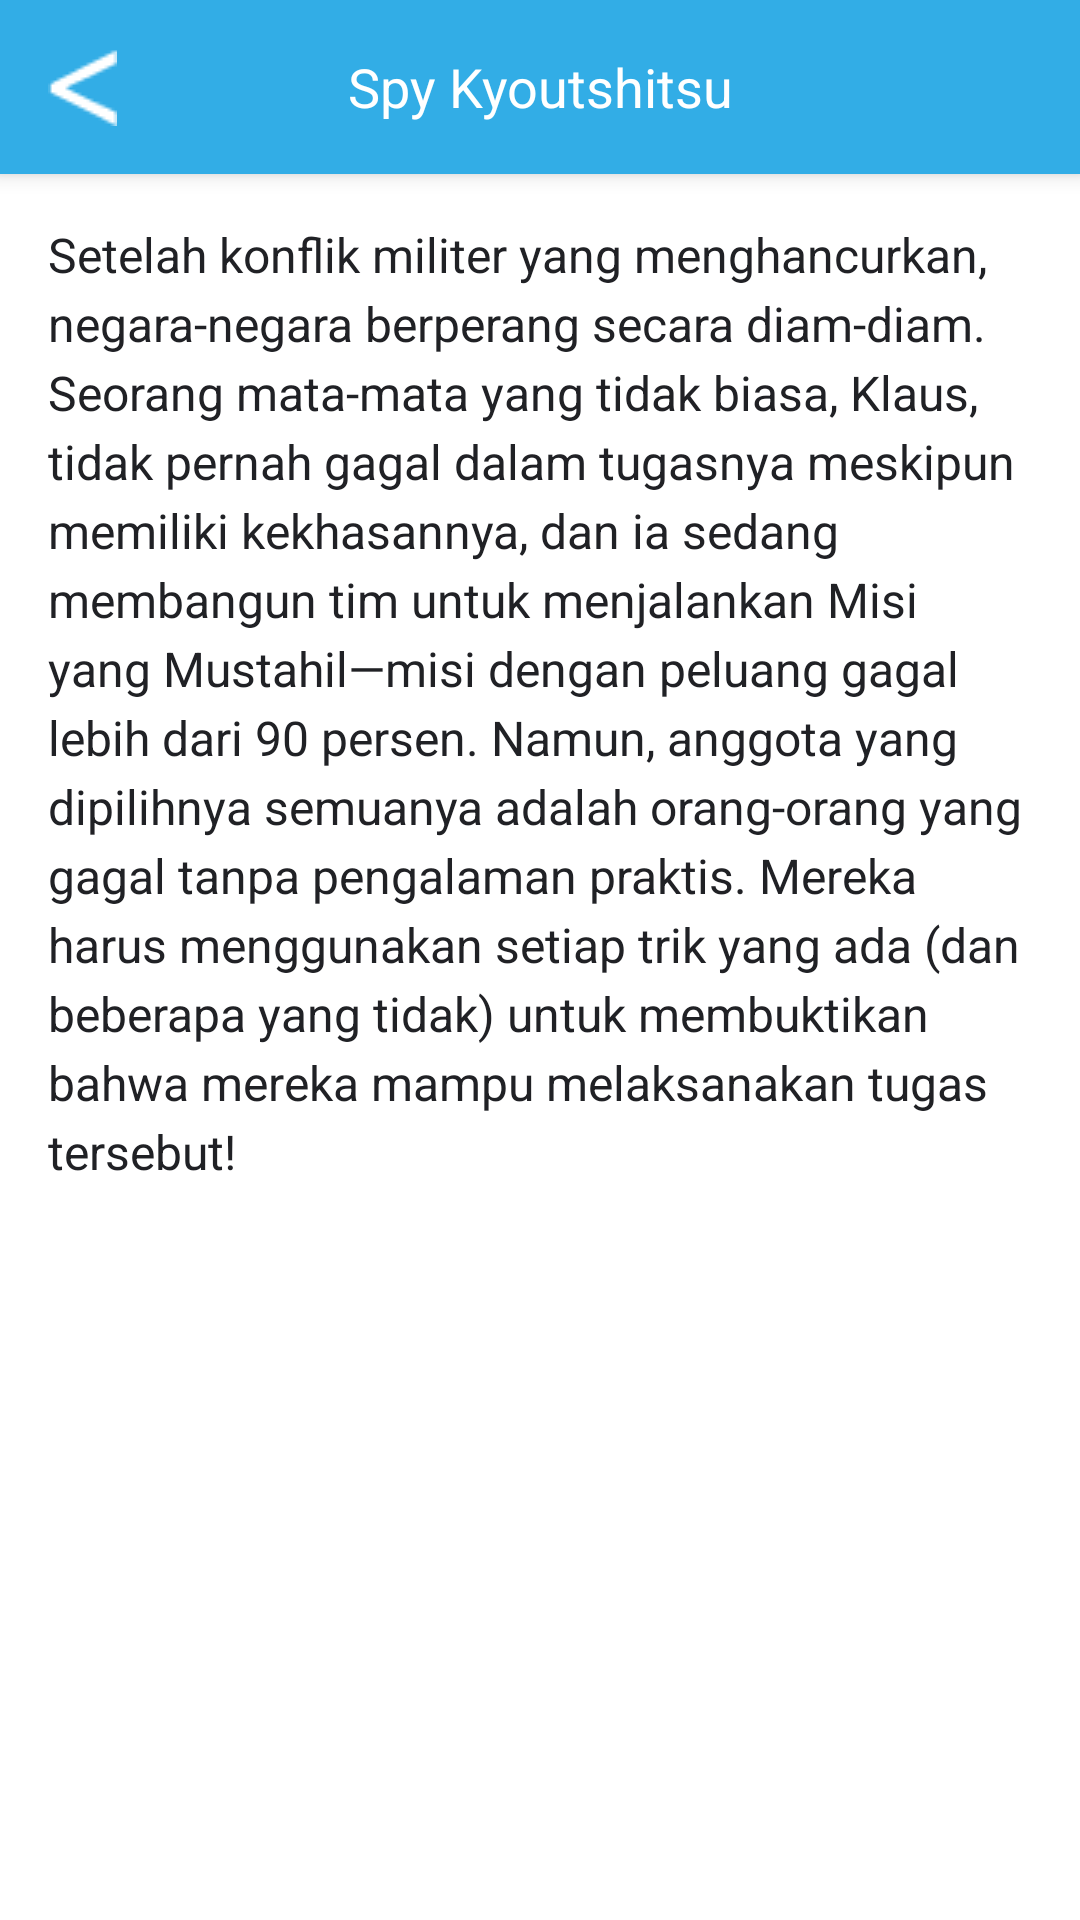

Screen size 1080*1920. Icon name, then its center in pixels as (x=x, y=y):
back: (x=82, y=88)
